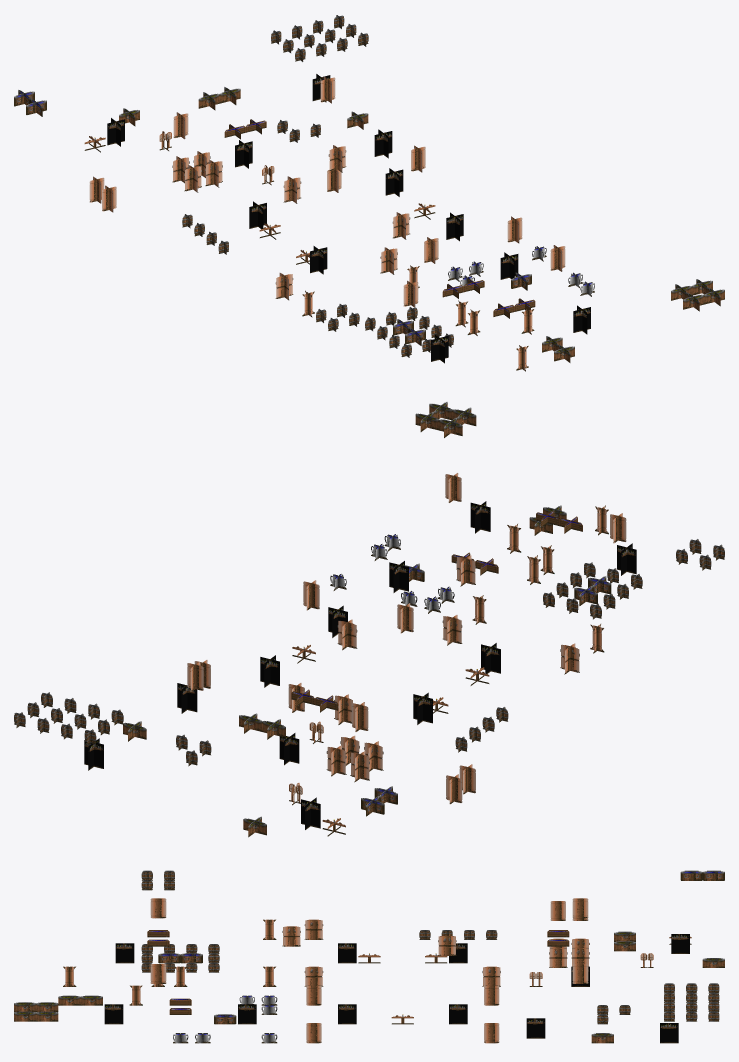
Rendered from passthrough.obj.
3 views of the same model, one above another, from view 1: azimuth 30°, elevation 25°; view 2: azimuth 150°, elevation 25°; view 3: azimuth 270°, elevation 25° (orthographic). The views are drawn at different scales.
Parts seen in each view (by area): view 1: no part large enough to name; view 2: no part large enough to name; view 3: Plane.052, Plane.060, Plane.061, Plane.053, Plane.055, Plane.057, Plane.058, Plane.059, Plane.054, Plane.089, Plane.039, Plane.050 (+13 smaller).
Boxes of the visible parts, x1,y1,x2,y2 form: Plane.052: (526, 1018, 545, 1038); Plane.060: (104, 1004, 123, 1024); Plane.061: (115, 943, 134, 963); Plane.053: (660, 1023, 678, 1043); Plane.055: (338, 943, 356, 963); Plane.057: (338, 1004, 356, 1024); Plane.058: (449, 1004, 467, 1024); Plane.059: (238, 1004, 256, 1024); Plane.054: (671, 934, 689, 953); Plane.089: (282, 926, 300, 946); Plane.039: (304, 919, 323, 939); Plane.050: (549, 948, 567, 967).
Size of the model in its own units: 32 by 6 by 64.
Materials: 11 (11 with a texture image).
